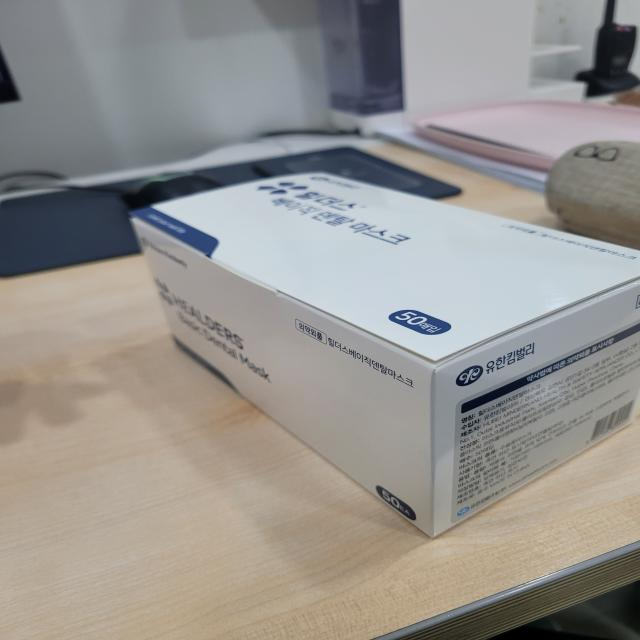mask: (102, 148, 640, 547)
